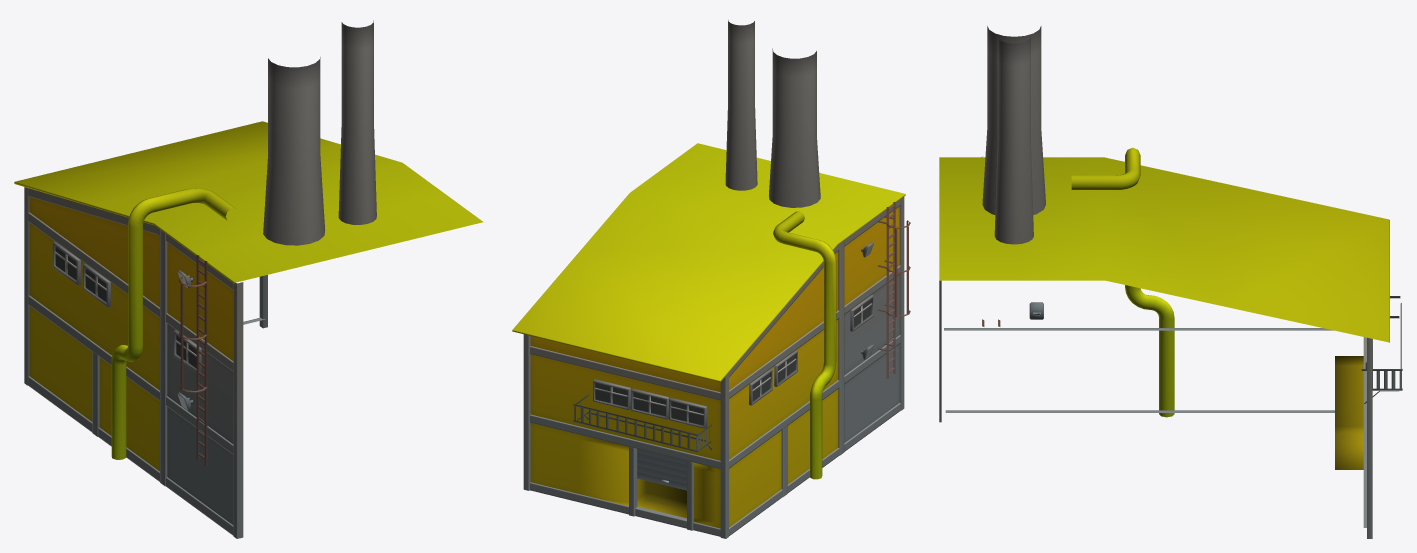
The model's file is Warehouse02.glb.
3 views of the same model, side by side, from view 1: azimuth 30°, elevation 25°; view 2: azimuth 150°, elevation 25°; view 3: azimuth 270°, elevation 25° (orthographic). The views are drawn at different scales.
Parts seen in each view (by area): view 1: Warehouse02; view 2: Warehouse02; view 3: Warehouse02.
Part boxes in pixels (x1,y1,x2,y2): Warehouse02: [14, 20, 483, 538]; Warehouse02: [512, 20, 910, 538]; Warehouse02: [939, 26, 1402, 538].
Size of the model in its own units: 20.16 by 31.39 by 28.63.
Materials: 4 (3 with a texture image).
